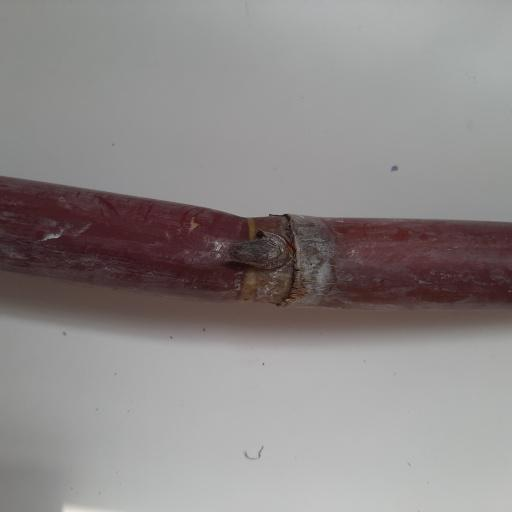Bud: (234, 232, 289, 270)
